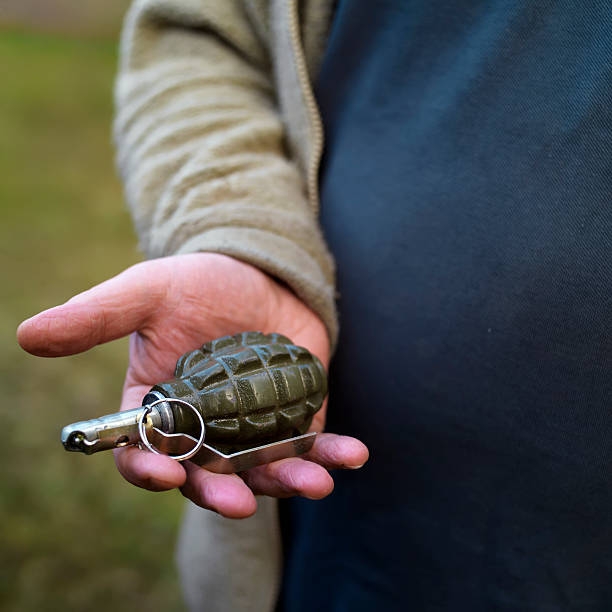e1: (58, 331, 330, 469)
